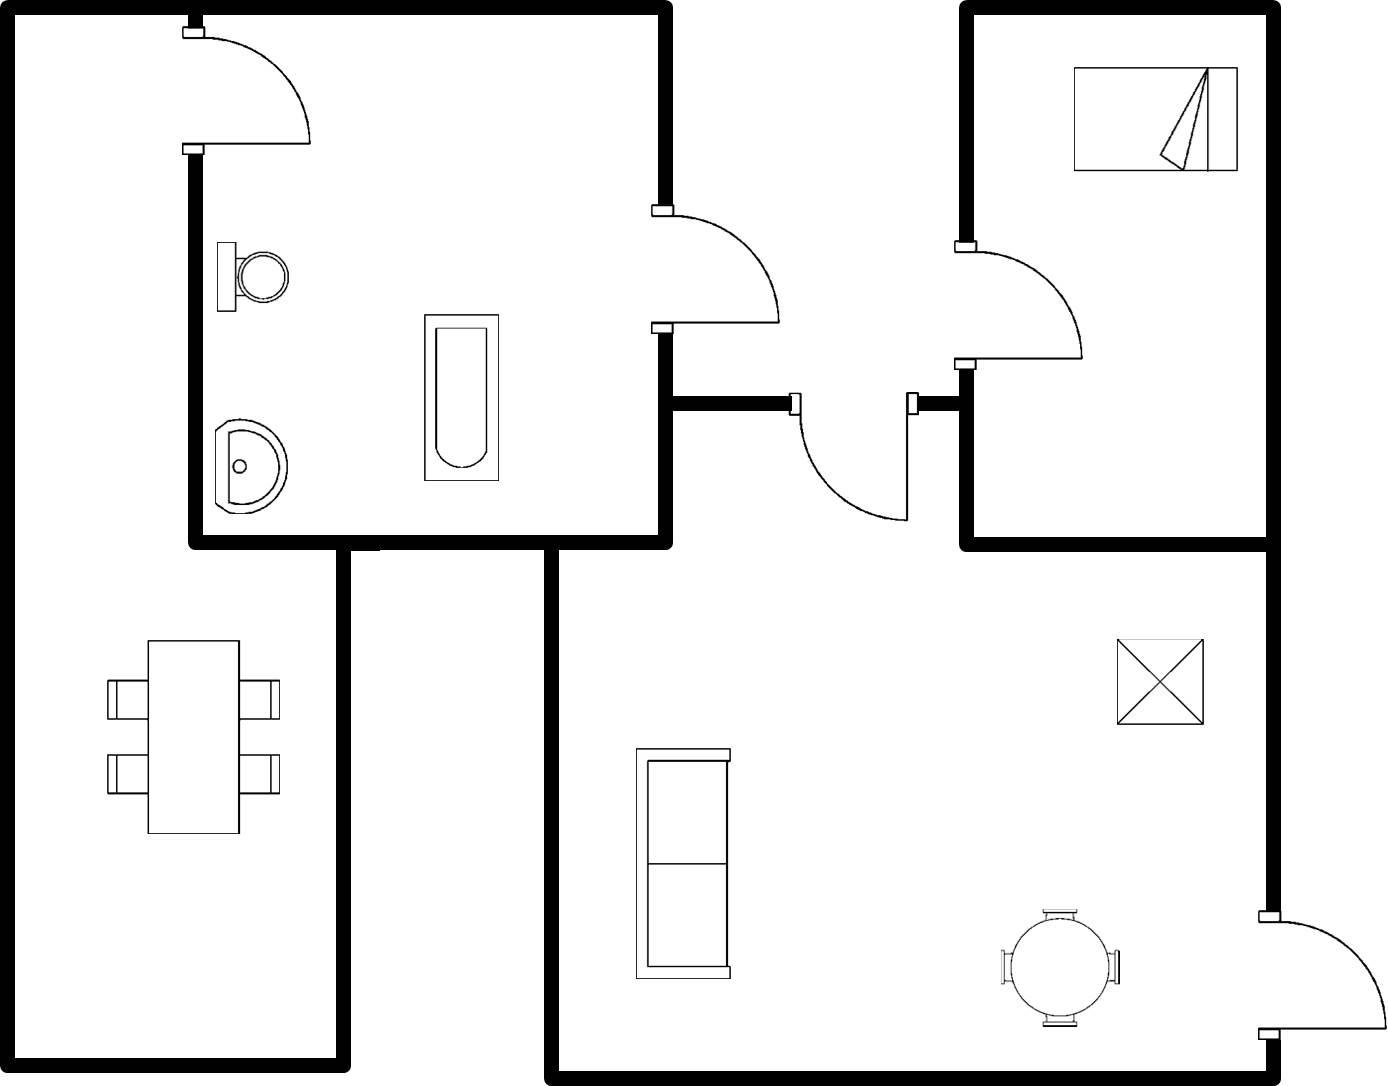bed: (1060, 56, 1248, 183)
dining_table: (96, 630, 290, 842)
round_table: (993, 898, 1133, 1034)
sofa: (626, 738, 744, 986)
toilet: (207, 232, 299, 319)
tub: (413, 303, 505, 490)
